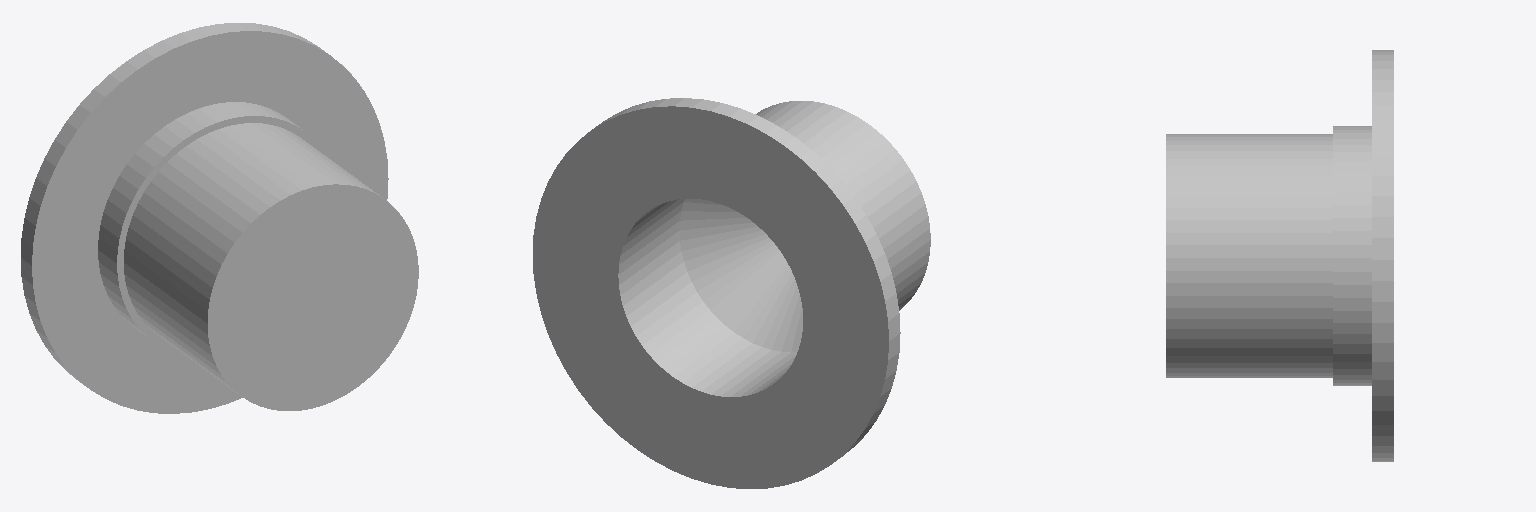
File: TopHat.obj
3 views of the same model, side by side, from view 1: azimuth 30°, elevation 25°; view 2: azimuth 150°, elevation 25°; view 3: azimuth 270°, elevation 25° (orthographic).
Parts seen in each view (by area): view 1: MeshFeature1; view 2: MeshFeature1; view 3: MeshFeature1.
Boxes of the visible parts, x1=… form: MeshFeature1: x1=21, y1=23, x2=418, y2=413; MeshFeature1: x1=533, y1=98, x2=930, y2=488; MeshFeature1: x1=1166, y1=50, x2=1393, y2=461.
Size of the model in its own units: 54 by 54 by 30.